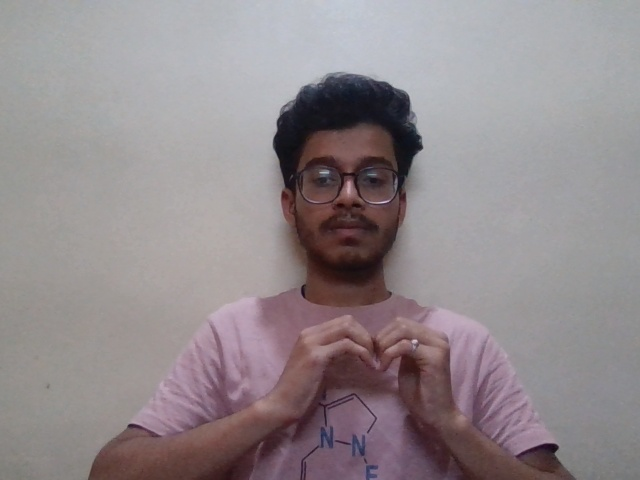M: (283, 309, 476, 438)
